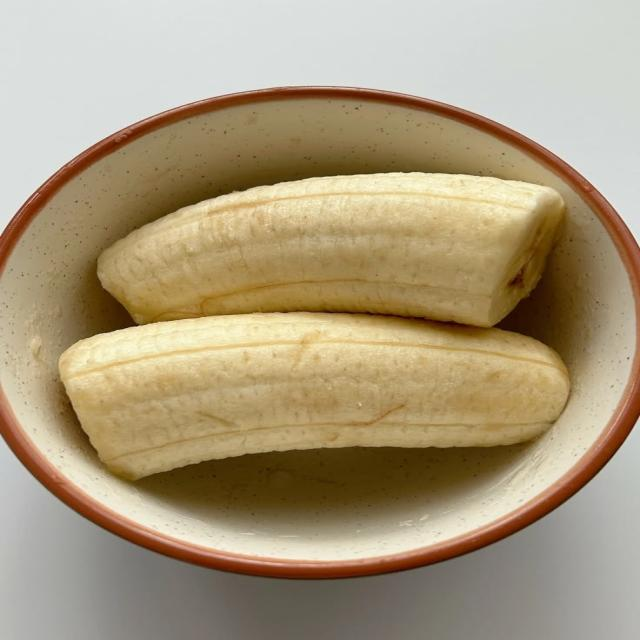banana slice: (60, 313, 569, 478), (99, 173, 564, 326)
